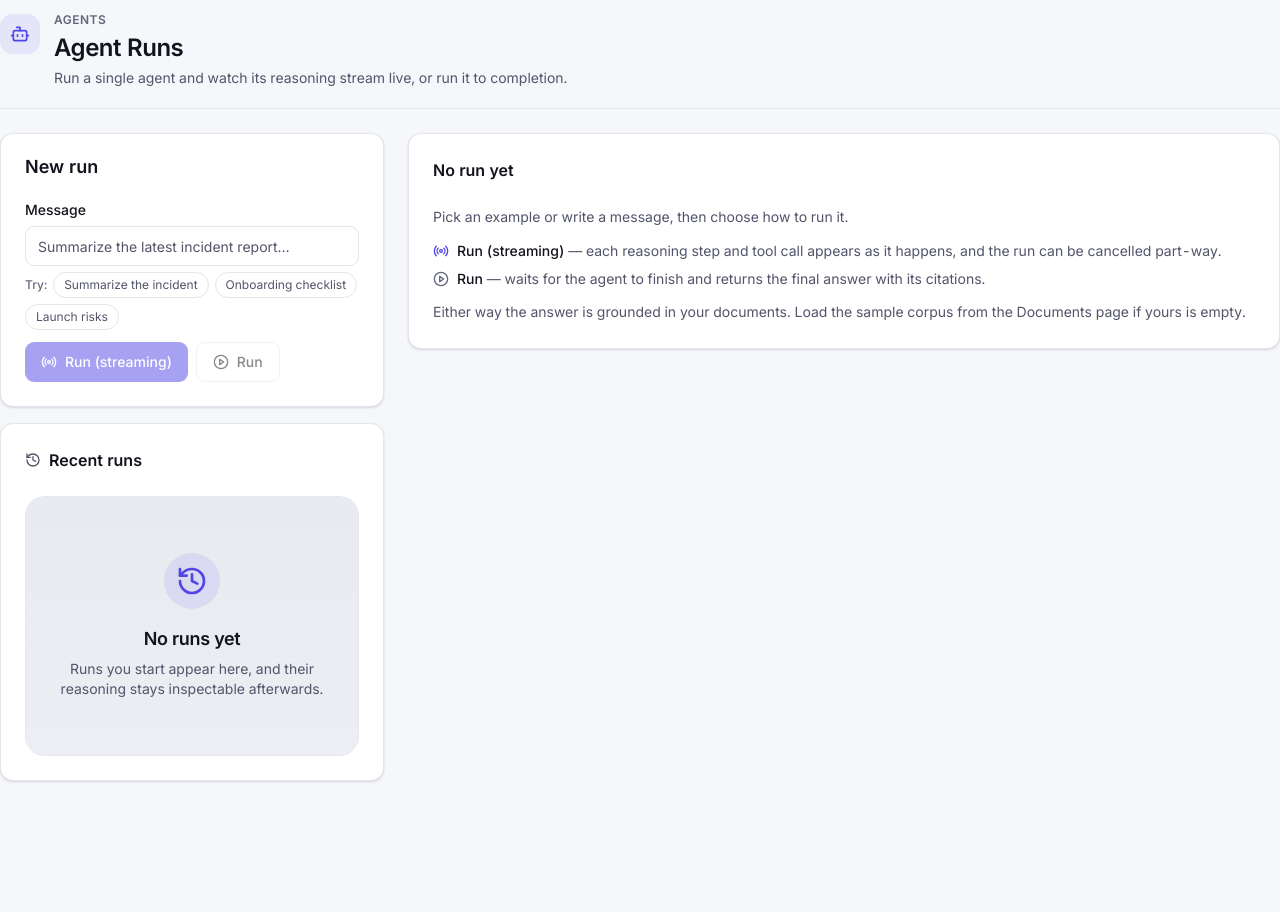
Test: SingleAgentRunView (MSW SSE) › renders the error detail on an error terminal (9.3)
Type "hi" into the field with test id "agent-message" at coordinates (192, 246), box [25,226,359,266]
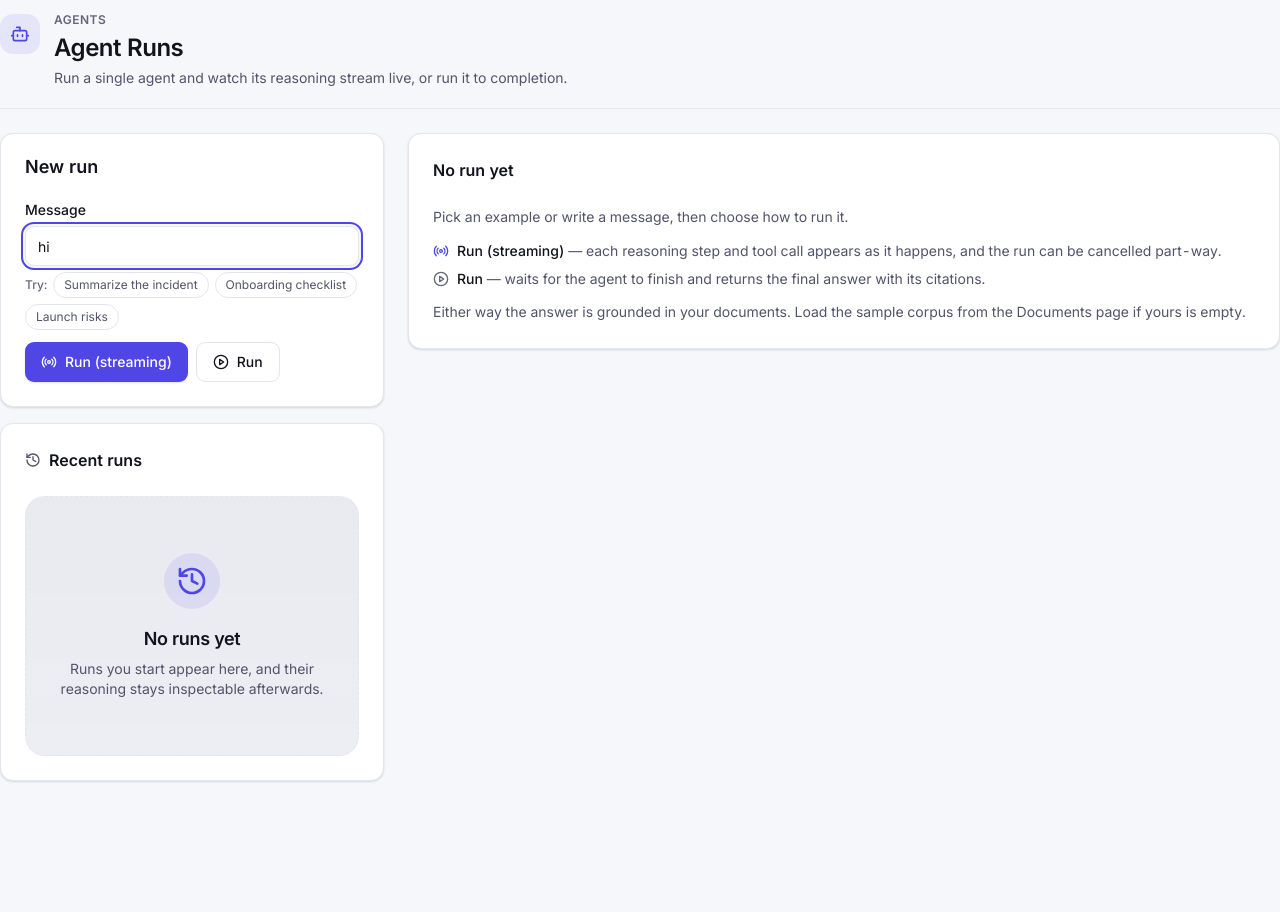
Click the button with test id "agent-run-stream" at coordinates (106, 362), box [25,342,188,382]
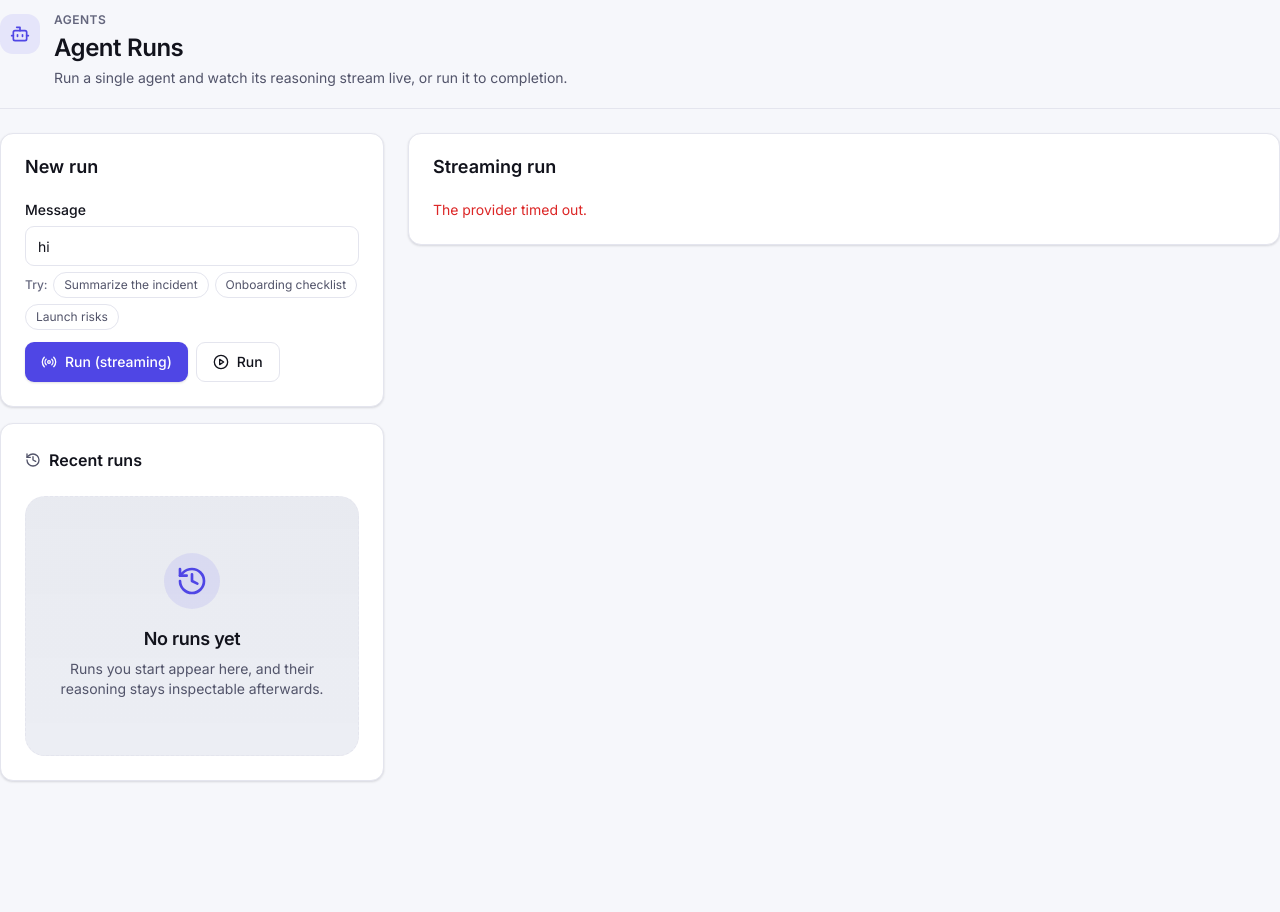
Result: the text with test id "stream-error" reads "The provider timed out." at [433,201,587,218]
